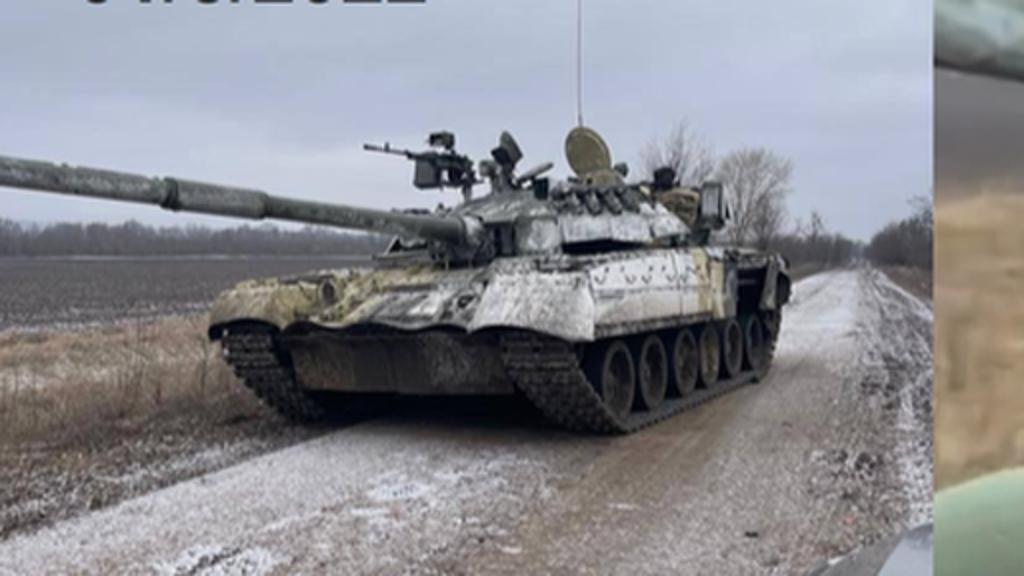TANK: (0, 120, 800, 440)
